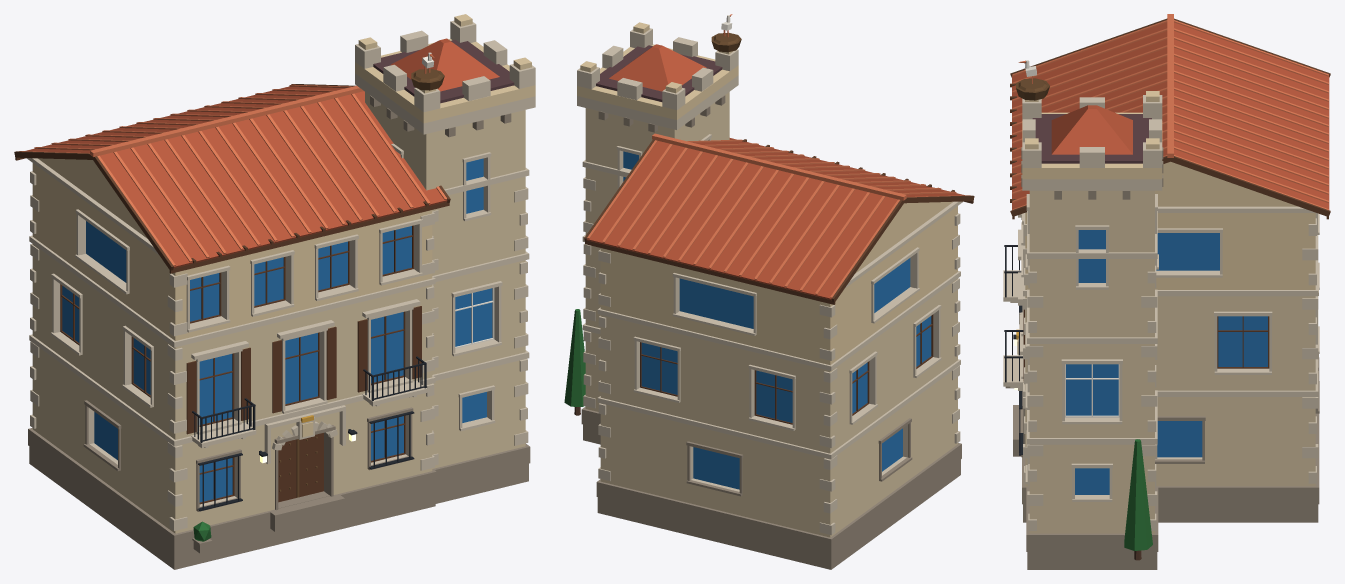
File: 06_casco_palace-lod0.glb
3 renders of one model, left to right at view 1: azimuth 30°, elevation 25°; view 2: azimuth 150°, elevation 25°; view 3: azimuth 270°, elevation 25°, orthographic. The views are drawn at different scales.
Visible parts, largest first — view 1: PalacioCasco_LOD0; view 2: PalacioCasco_LOD0; view 3: PalacioCasco_LOD0.
Part boxes in pixels (bbox=[...]): PalacioCasco_LOD0: bbox=[14, 14, 535, 569]; PalacioCasco_LOD0: bbox=[564, 14, 974, 569]; PalacioCasco_LOD0: bbox=[1003, 14, 1330, 569].
Size of the model in its own units: 16.3 by 17.84 by 11.51.
Materials: 2 (2 with a texture image).
